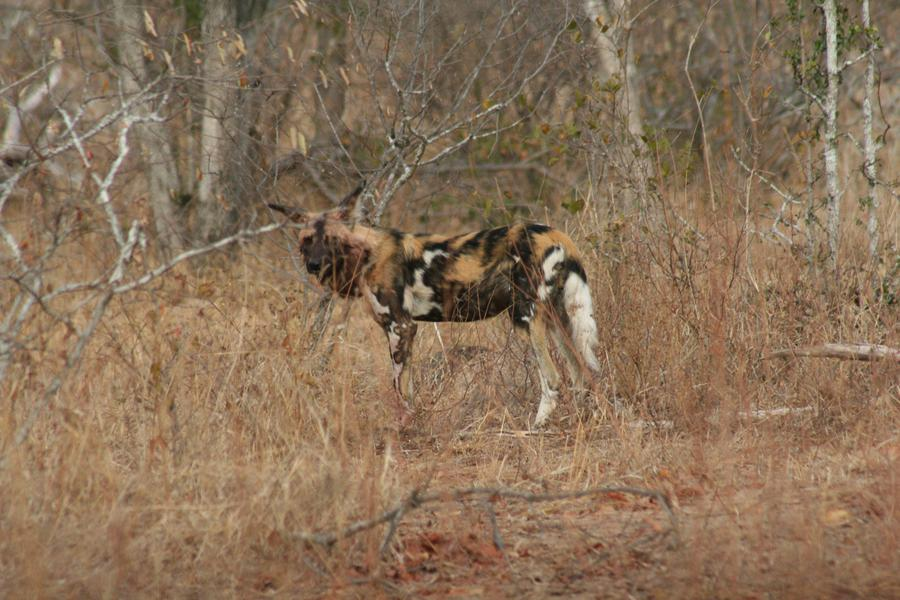wilddog: (335, 201, 585, 311)
